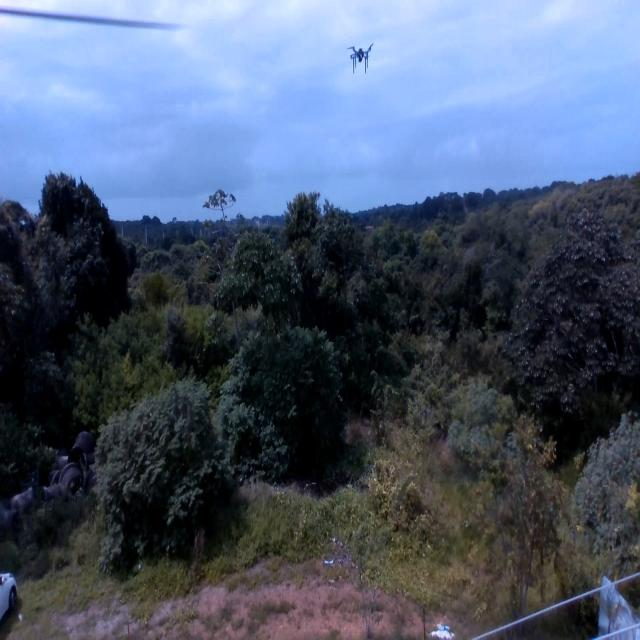-uav-: (342, 36, 378, 78)
